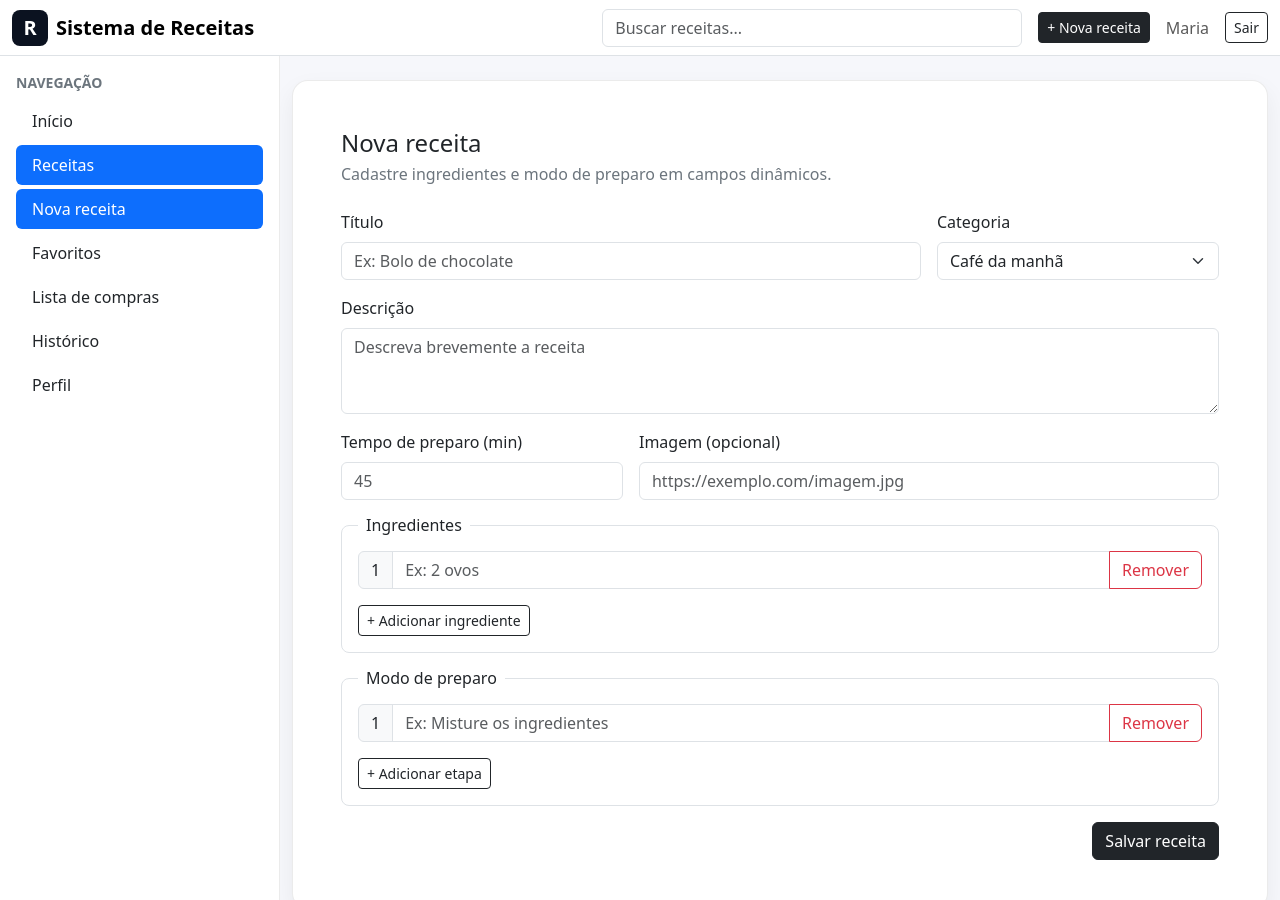
it: recipe form › creates a recipe using the API
Type "Bolo simples" into the field labelled "Título" at [631, 261], box [341,242,921,280]
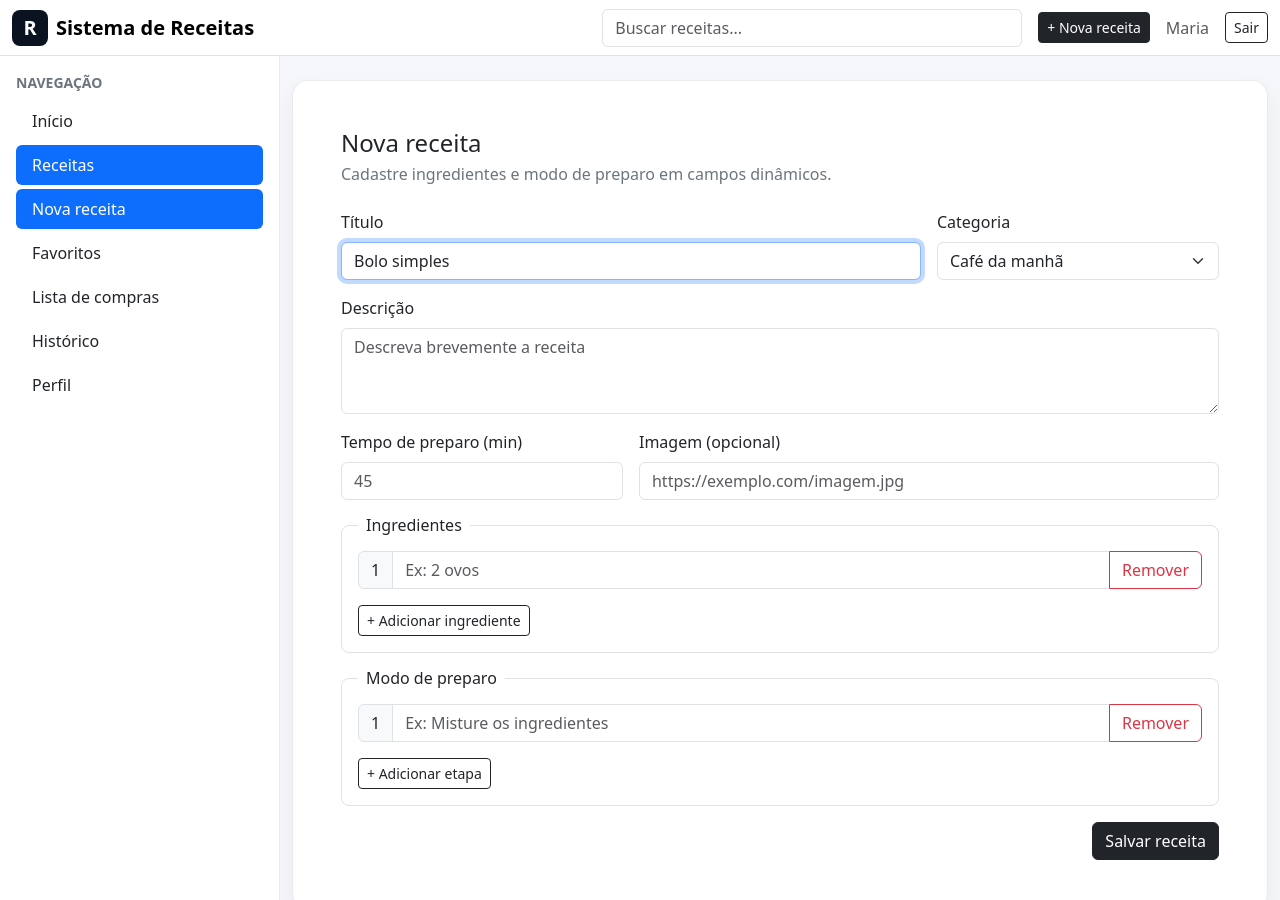
Type "Bolo fácil para o café." into the text box labelled "Descrição" at [780, 371], box [341,328,1219,414]
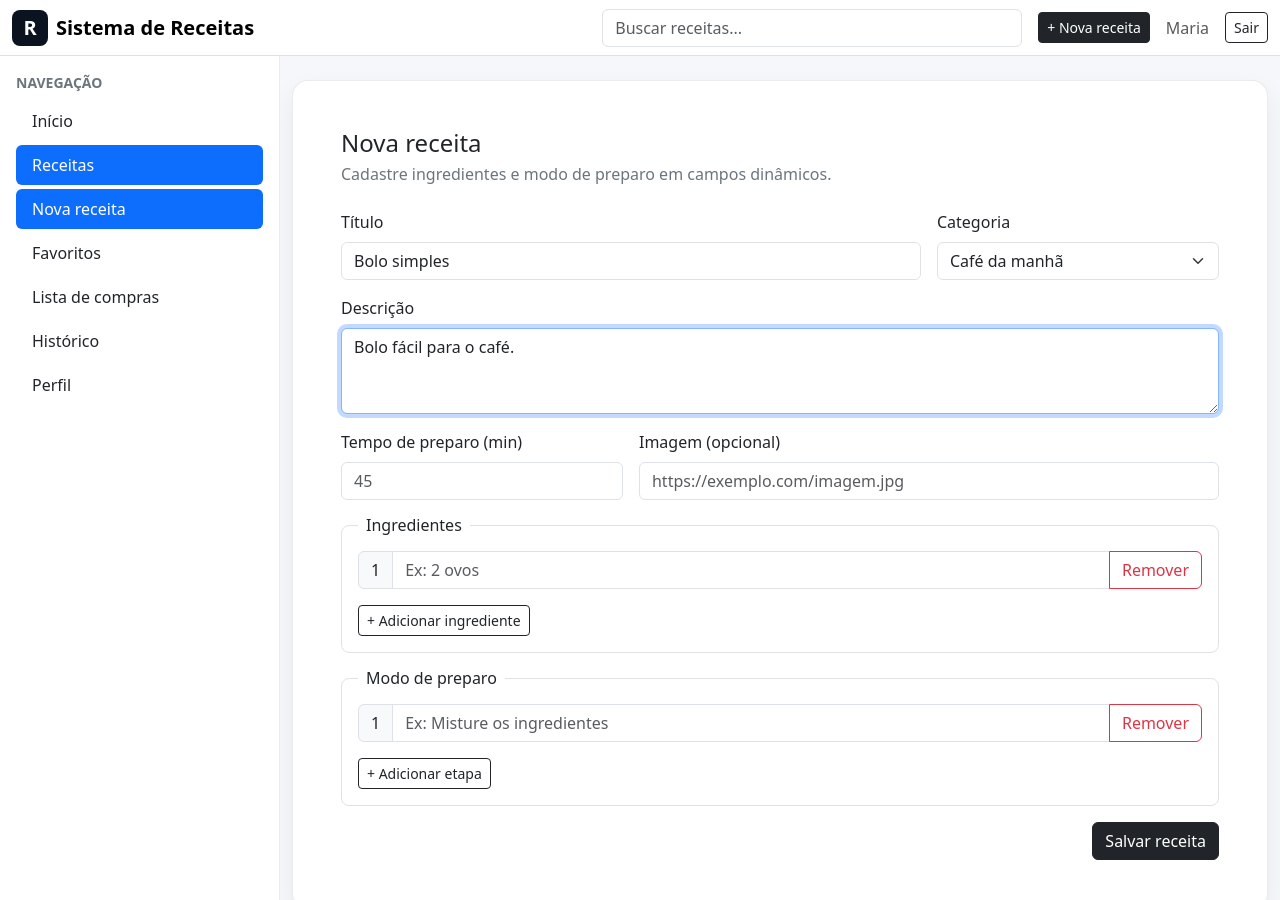
Type "30" into the number field labelled "Tempo de preparo (min)" at [482, 481], box [341,462,623,500]
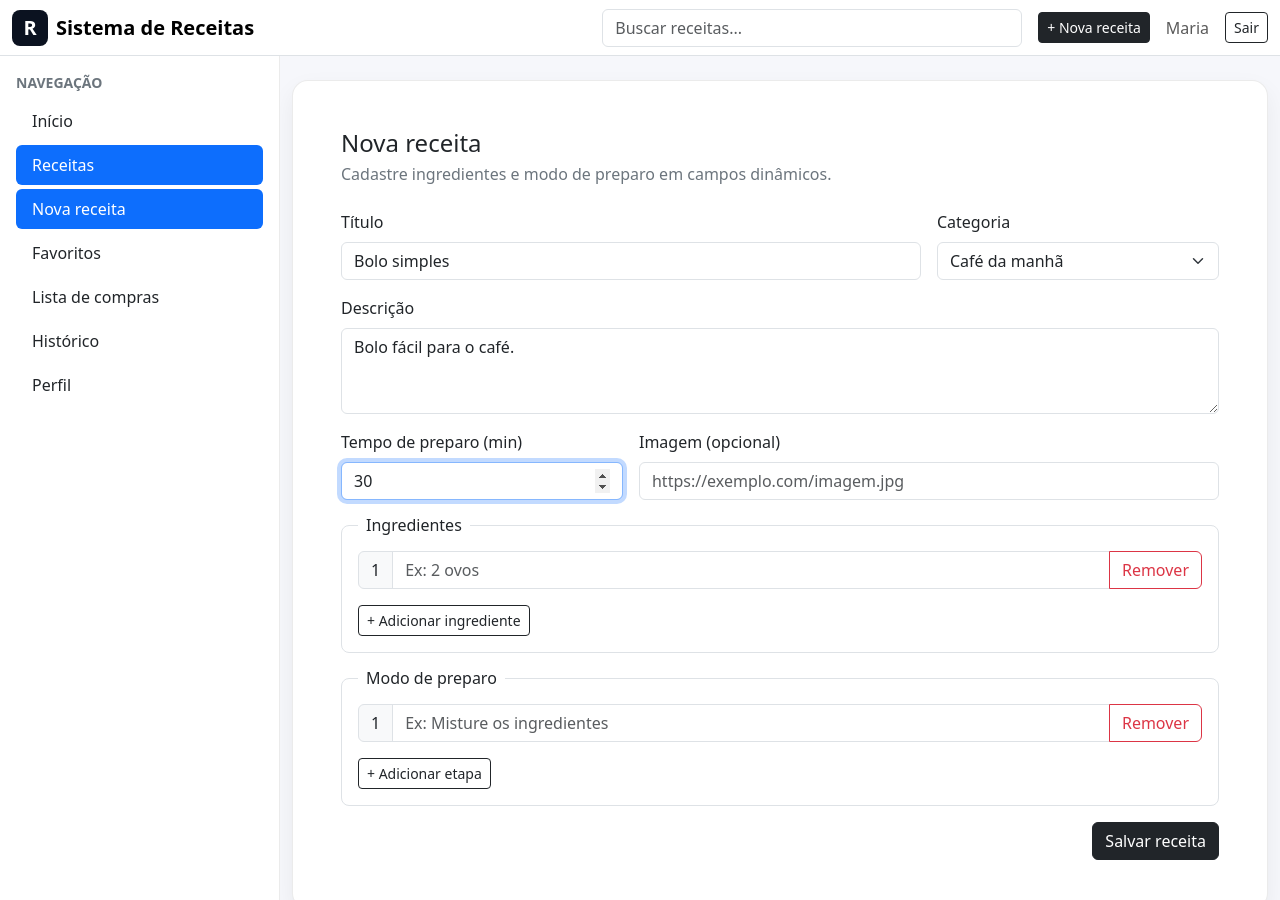
Type "2 ovos" into the field named "ingrediente 1" at [751, 570], box [392,551,1110,589]
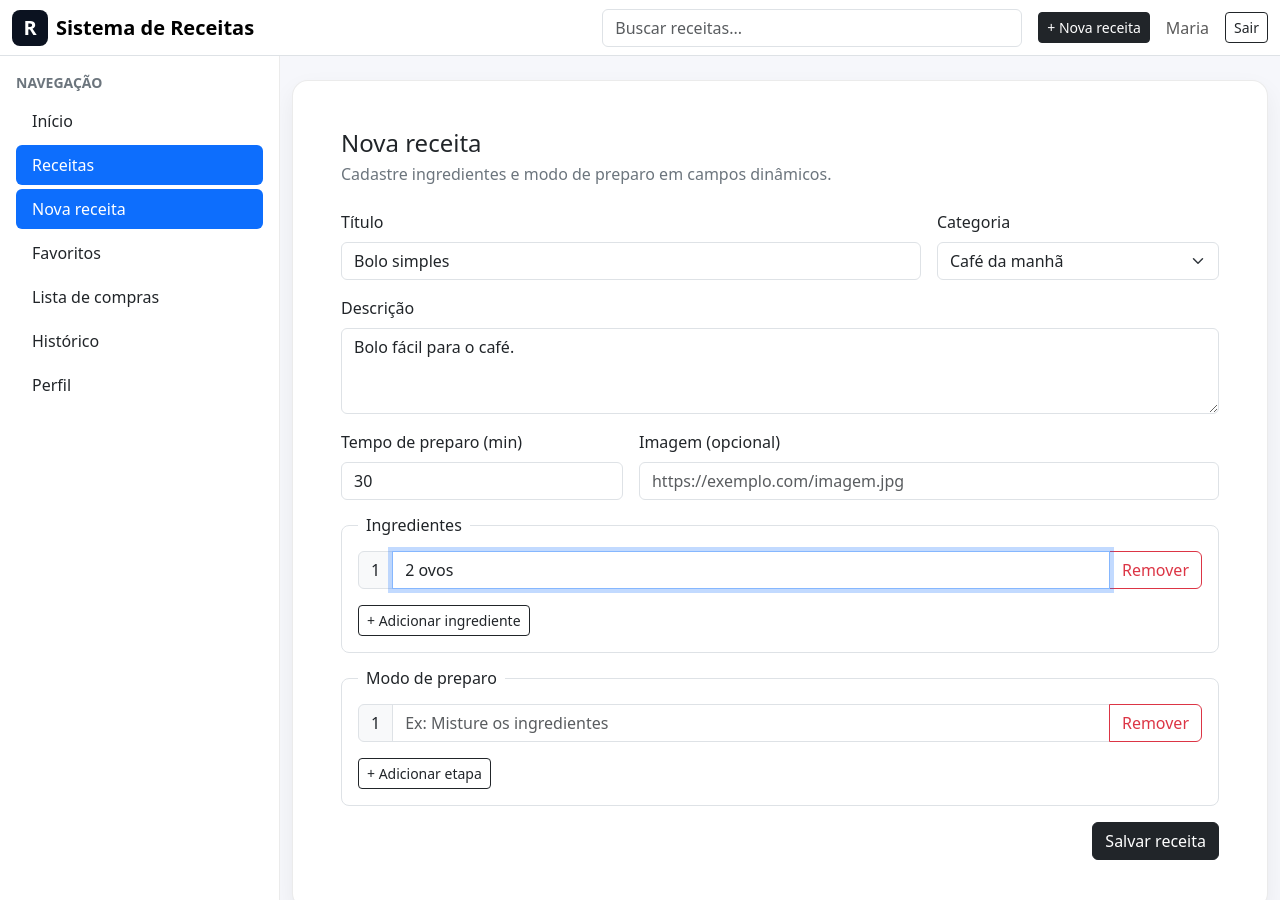
Type "Misture tudo" into the field named "etapa 1" at [751, 723], box [392,704,1110,742]
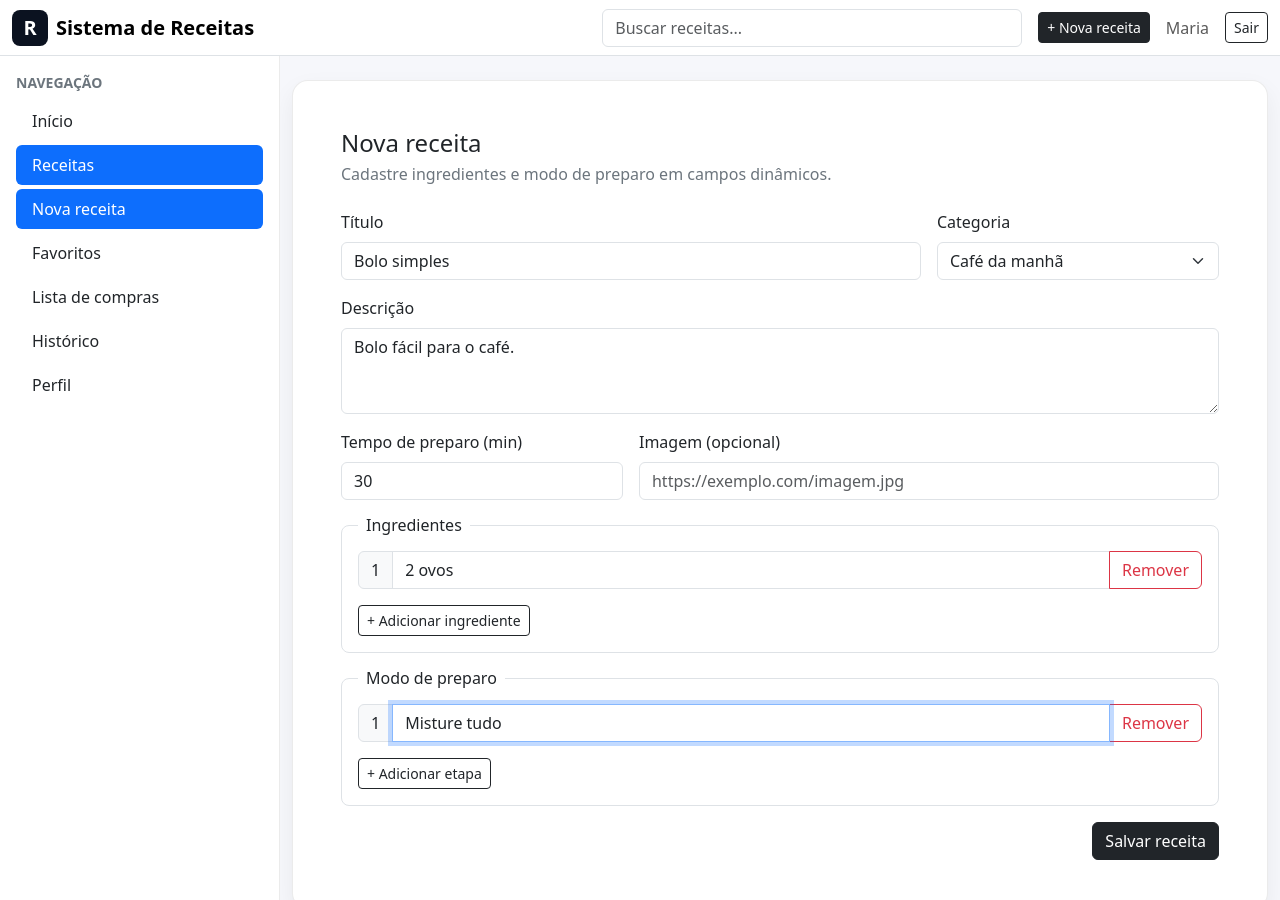
Click the button "Salvar receita" at [1156, 841], box [1092,822,1219,860]
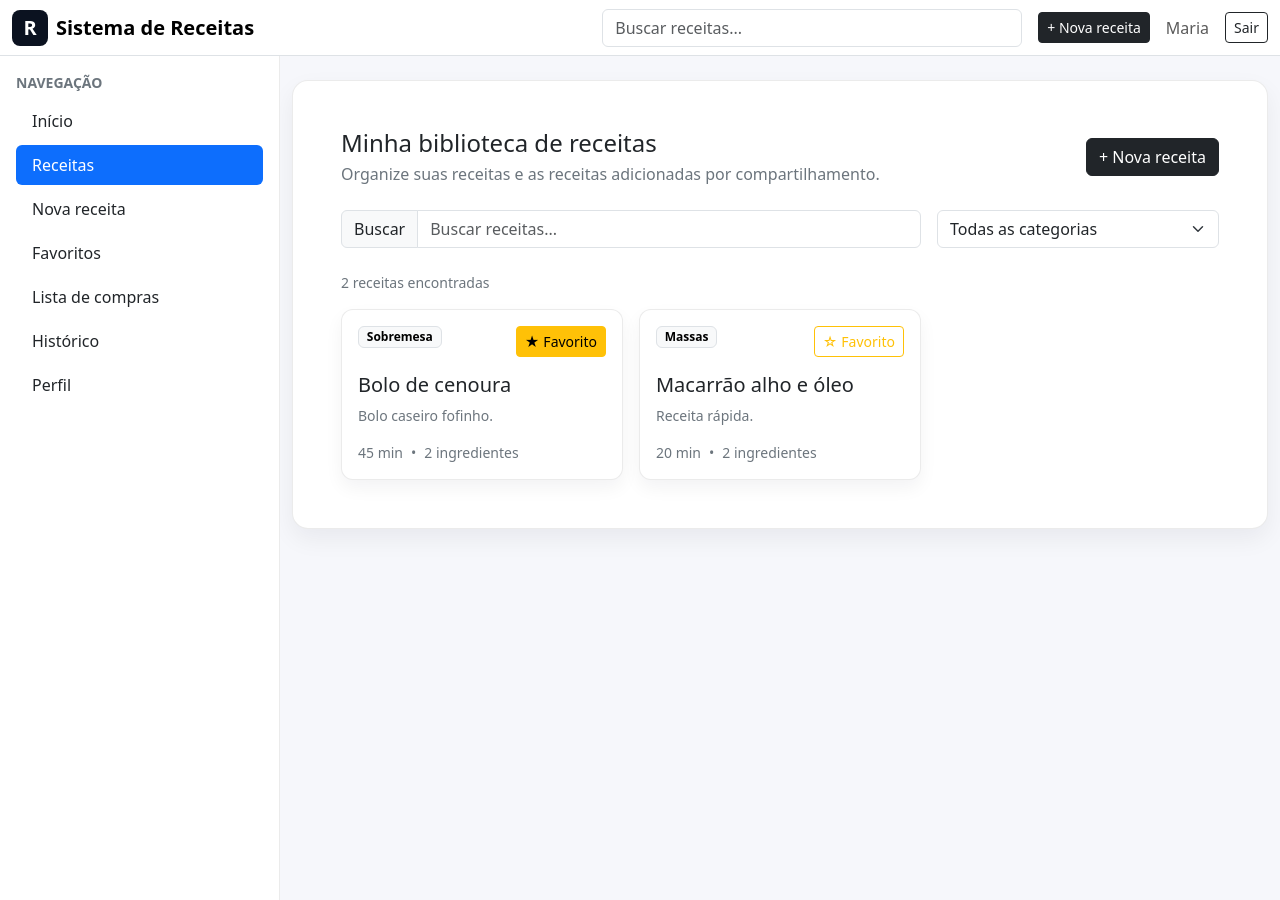
Now the heading "Minha biblioteca de receitas" is shown, box [341,126,657,159]
